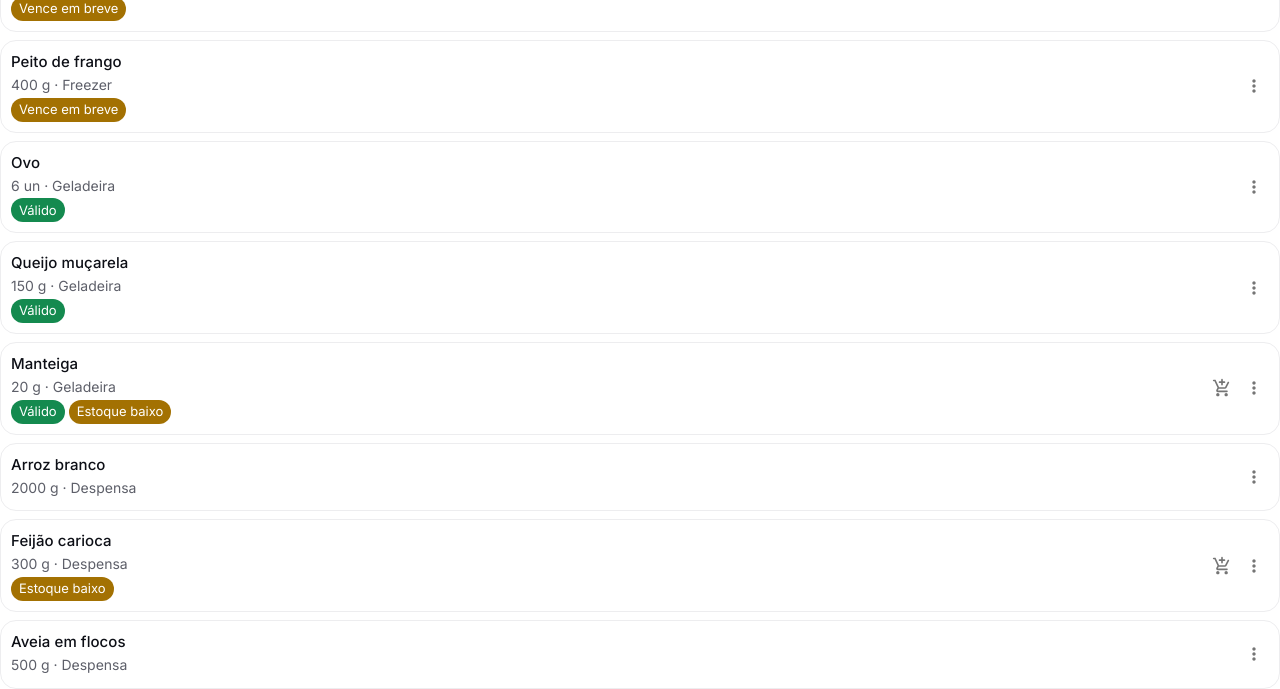
Test: PantryPage › removes an item after confirming
(page scrolled)
Check: the text "Arroz branco" is shown, box 11,455 -> 106,474
Step 1. Click the button named "Mais ações" in the row of "Arroz branco" → (1254, 477), box 1239,462 -> 1269,492
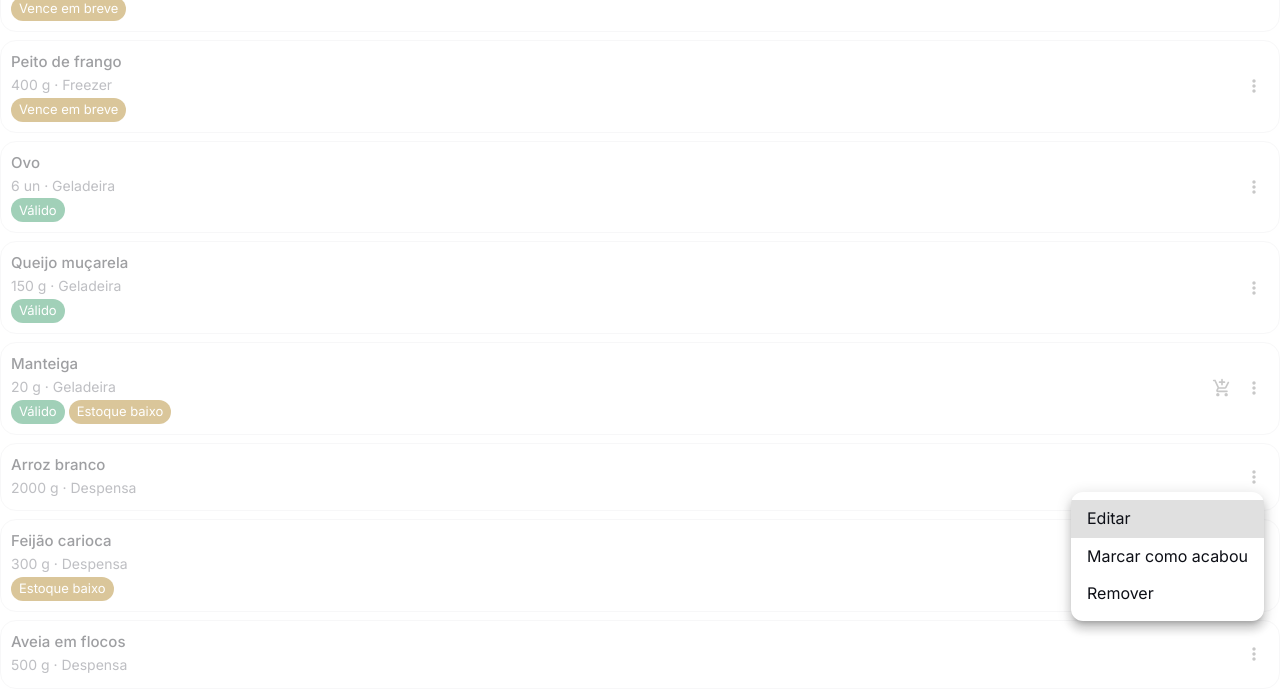
Step 2. Click the menu item "Remover" → (1120, 593), box 1087,583 -> 1154,603
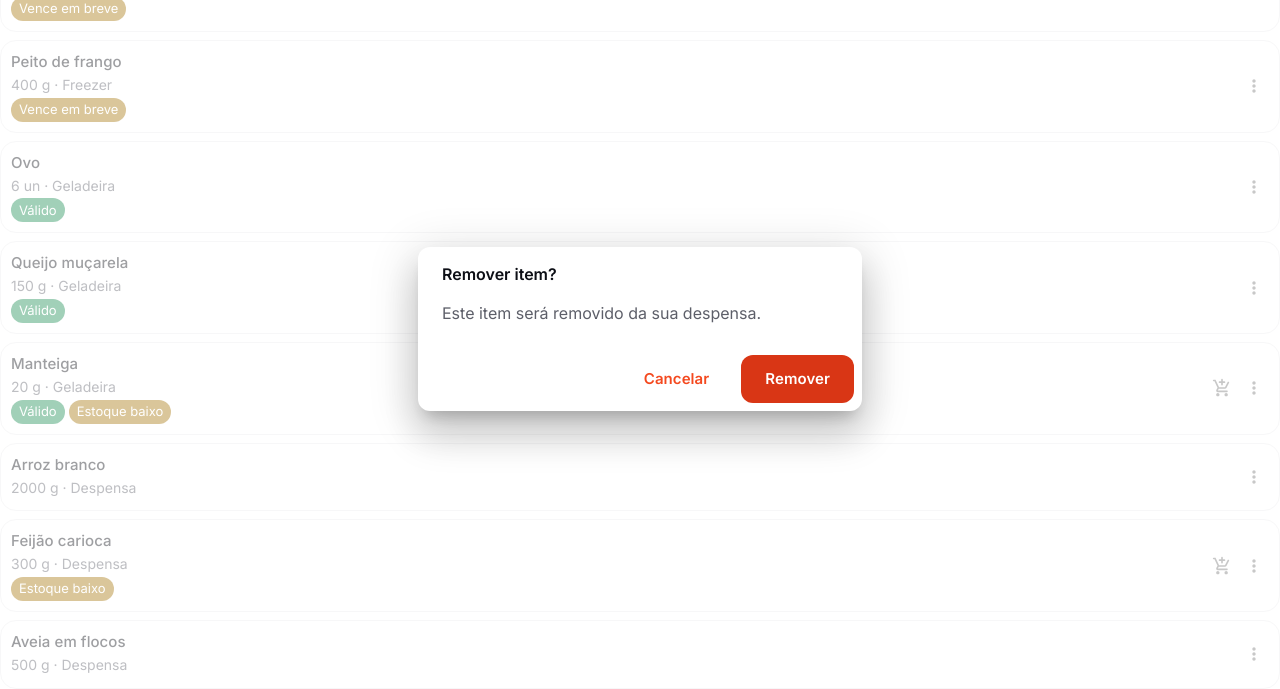
Step 3. Click the button "Remover" → (798, 379), box 741,355 -> 854,403
(page scrolled)
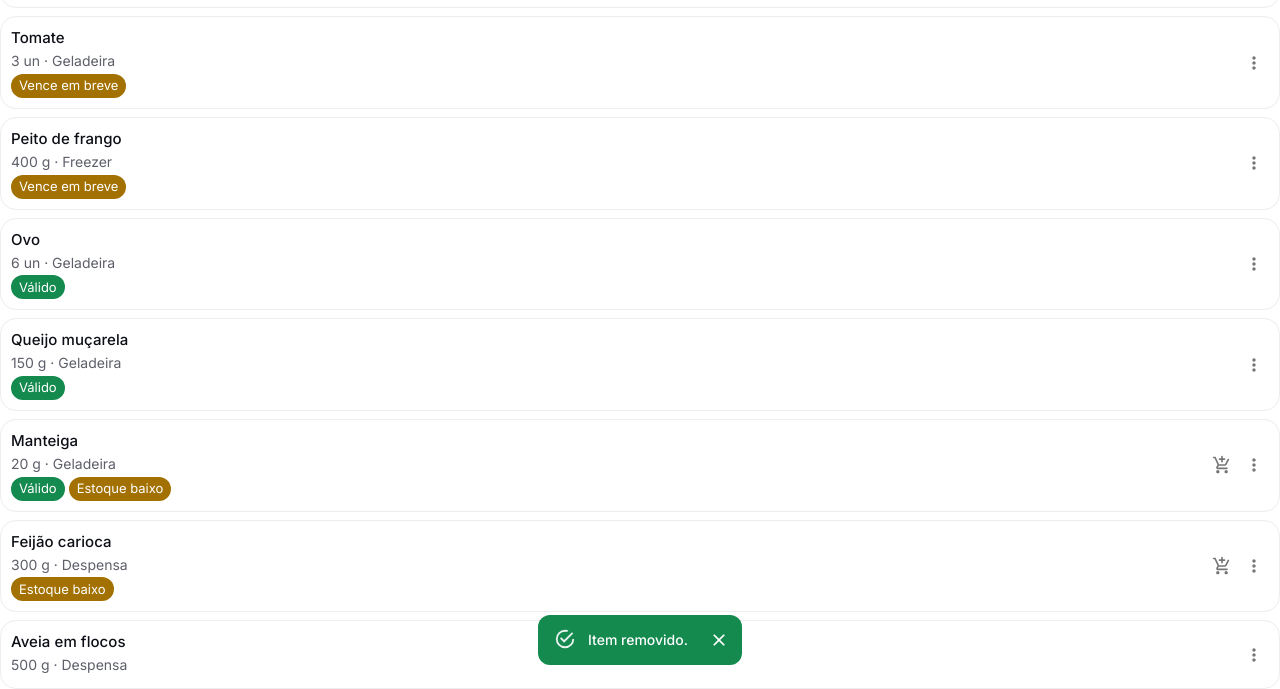
Check: the text "Item removido." is shown, box 588,631 -> 688,648
